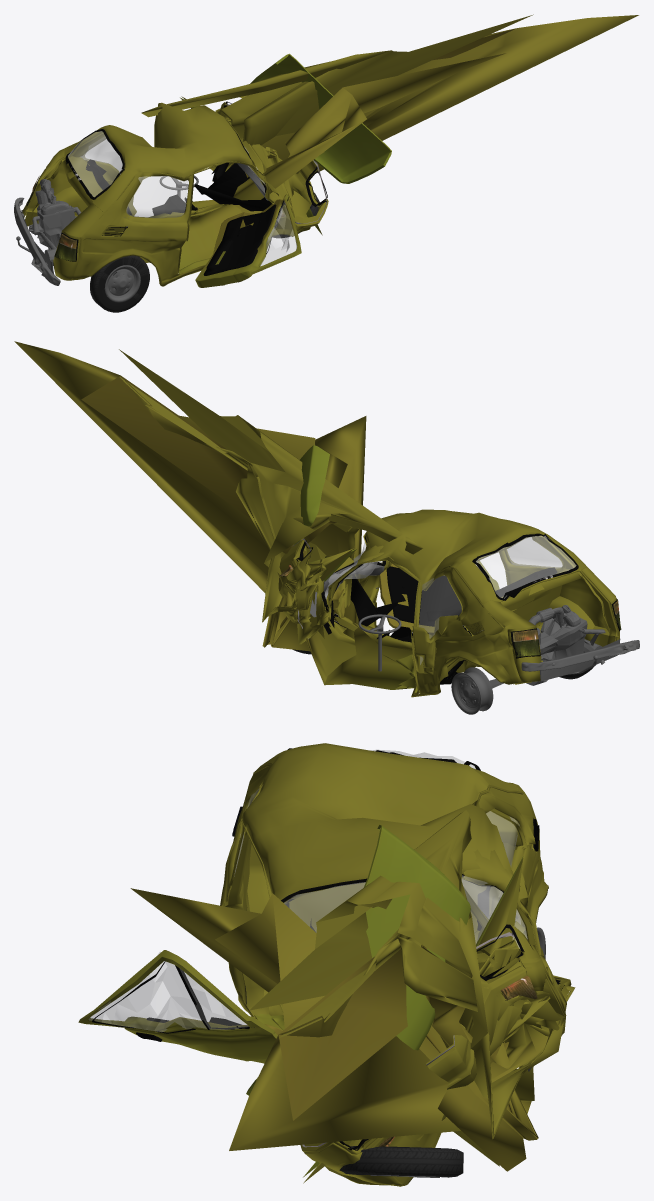
Rendered from crash_7.fbx.
3 renders of one model, top to bottom at view 1: azimuth 30°, elevation 25°; view 2: azimuth 150°, elevation 25°; view 3: azimuth 270°, elevation 25°, orthographic. The views are drawn at different scales.
Visible parts, largest first — view 1: Mesh_0083_rip1, Mesh_0131_rip, Mesh_0182_rip, Mesh_0096_rip1, Mesh_0149_rip1, Mesh_0207_rip, Mesh_0208_rip, Mesh_0178_rip, Mesh_0187_rip.002, Mesh_0210_rip, Mesh_0197_rip, Mesh_0098_rip (+1 smaller); view 2: Mesh_0083_rip1, Mesh_0182_rip, Mesh_0207_rip, Mesh_0096_rip1, Mesh_0178_rip, Mesh_0131_rip, Mesh_0209_rip, Mesh_0199_rip, Mesh_0098_rip, Mesh_0208_rip, Mesh_0149_rip1, Mesh_0212_rip (+3 smaller); view 3: Mesh_0083_rip1, Mesh_0131_rip, Mesh_0149_rip1, Mesh_0210_rip, Mesh_0212_rip, Mesh_0187_rip, Mesh_0182_rip, Mesh_0209_rip, Mesh_0096_rip1.
Boxes of the visible parts, bbox=[...] form: Mesh_0083_rip1: bbox=[22, 14, 638, 286]; Mesh_0131_rip: bbox=[250, 53, 391, 183]; Mesh_0182_rip: bbox=[26, 101, 327, 261]; Mesh_0096_rip1: bbox=[203, 200, 296, 275]; Mesh_0149_rip1: bbox=[195, 194, 301, 287]; Mesh_0207_rip: bbox=[68, 131, 122, 196]; Mesh_0208_rip: bbox=[124, 176, 188, 217]; Mesh_0178_rip: bbox=[29, 179, 81, 265]; Mesh_0187_rip.002: bbox=[90, 255, 149, 312]; Mesh_0210_rip: bbox=[260, 201, 296, 265]; Mesh_0197_rip: bbox=[104, 265, 140, 302]; Mesh_0098_rip: bbox=[14, 197, 60, 285]; Mesh_0083_rip1: bbox=[14, 341, 619, 697]; Mesh_0182_rip: bbox=[283, 533, 619, 684]; Mesh_0207_rip: bbox=[476, 536, 576, 598]; Mesh_0096_rip1: bbox=[386, 566, 480, 626]; Mesh_0178_rip: bbox=[526, 605, 605, 685]; Mesh_0131_rip: bbox=[294, 445, 329, 544]; Mesh_0209_rip: bbox=[419, 575, 461, 664]; Mesh_0199_rip: bbox=[451, 667, 493, 714]; Mesh_0098_rip: bbox=[521, 640, 639, 671]; Mesh_0208_rip: bbox=[507, 537, 562, 568]; Mesh_0149_rip1: bbox=[379, 560, 499, 635]; Mesh_0212_rip: bbox=[324, 542, 382, 598]; Mesh_0083_rip1: bbox=[130, 743, 575, 1186]; Mesh_0131_rip: bbox=[246, 824, 470, 1141]; Mesh_0149_rip1: bbox=[78, 950, 282, 1063]; Mesh_0210_rip: bbox=[88, 952, 248, 1031]; Mesh_0212_rip: bbox=[284, 875, 527, 948]; Mesh_0187_rip: bbox=[339, 1146, 463, 1177]; Mesh_0182_rip: bbox=[232, 748, 560, 1150]; Mesh_0209_rip: bbox=[462, 811, 520, 924]; Mesh_0096_rip1: bbox=[92, 961, 254, 1041].
Size of the model in its own units: 14.86 by 4.88 by 5.48.
6 materials, 4 textured.
